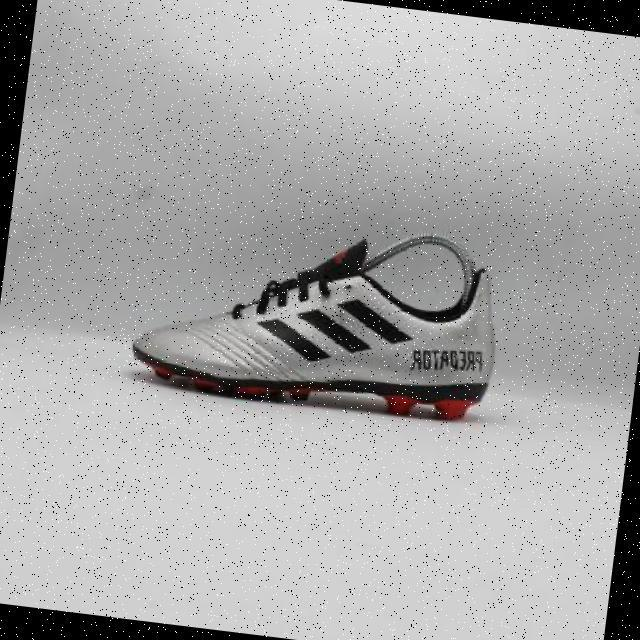Adidas: (249, 283, 420, 384)
